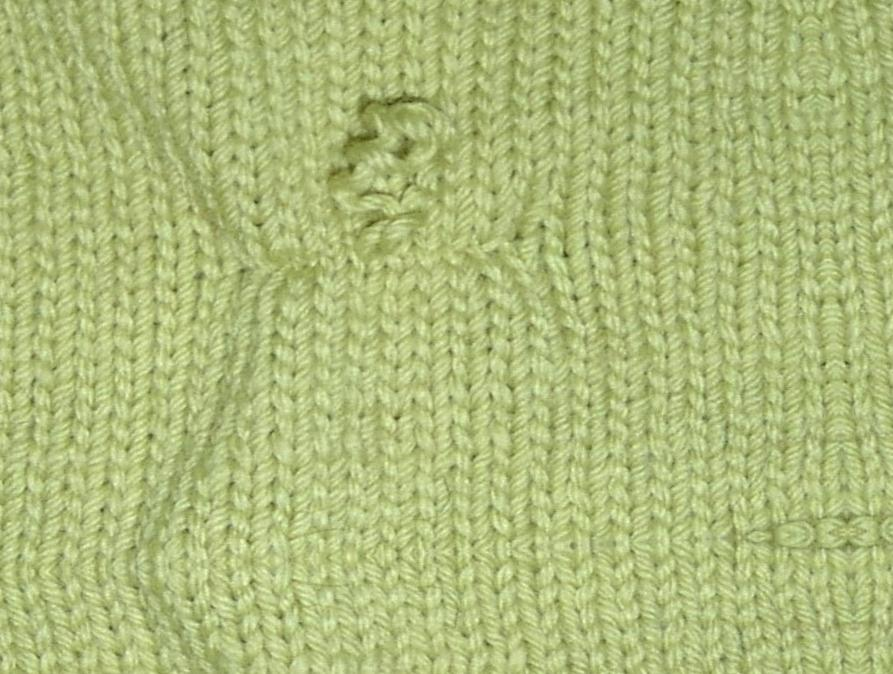knot: (329, 86, 454, 257)
